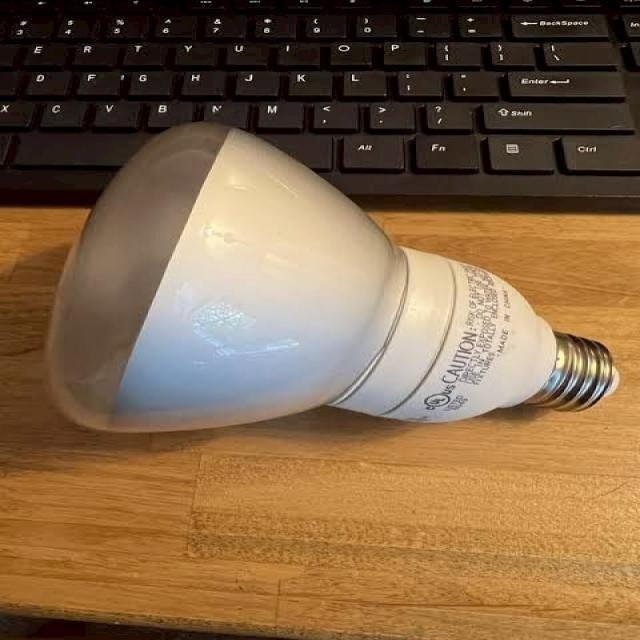bulb: (46, 118, 628, 434)
